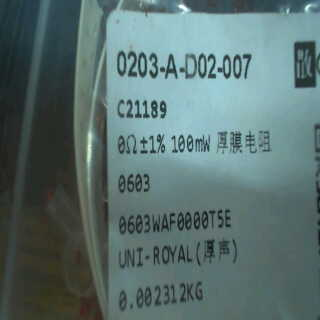0R: (117, 129, 218, 196)
